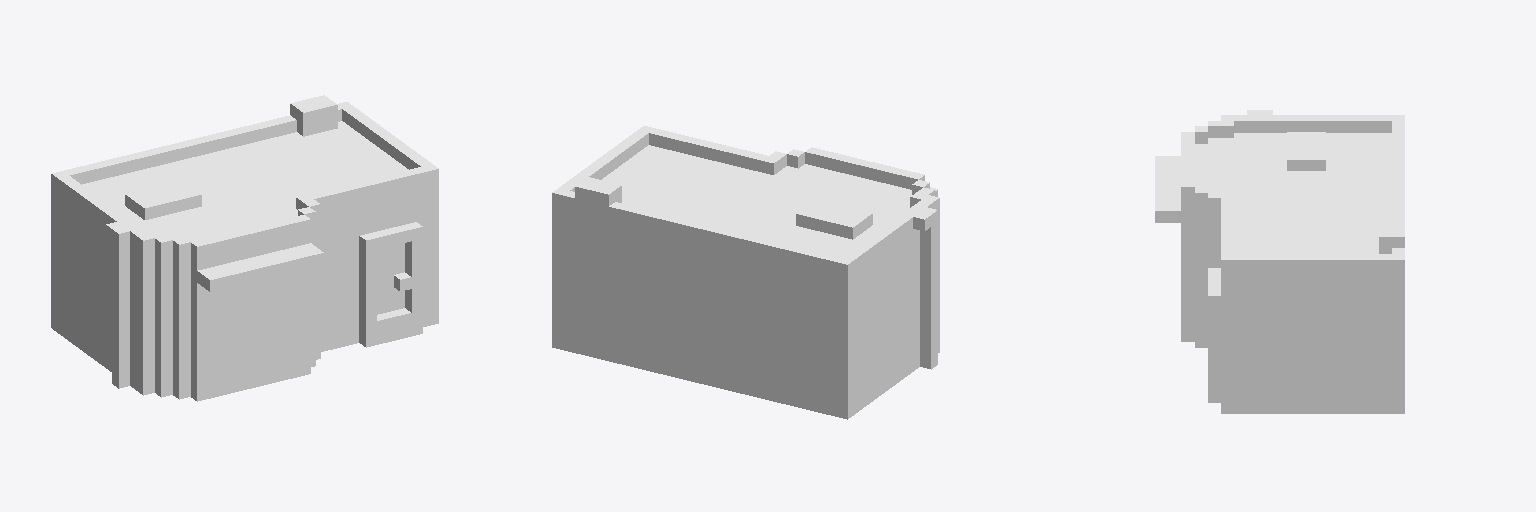
The model's file is shop4_color.obj.
The picture shows the model from 3 angles: view 1: azimuth 30°, elevation 25°; view 2: azimuth 150°, elevation 25°; view 3: azimuth 270°, elevation 25°; orthographic projection.
Parts seen in each view (by area): view 1: shop4_color; view 2: shop4_color; view 3: shop4_color.
Boxes of the visible parts, x1=… form: shop4_color: x1=51, y1=95, x2=438, y2=401; shop4_color: x1=552, y1=126, x2=939, y2=419; shop4_color: x1=1155, y1=110, x2=1404, y2=413.
Bounding box in the file's own units: 27 × 14 × 19.